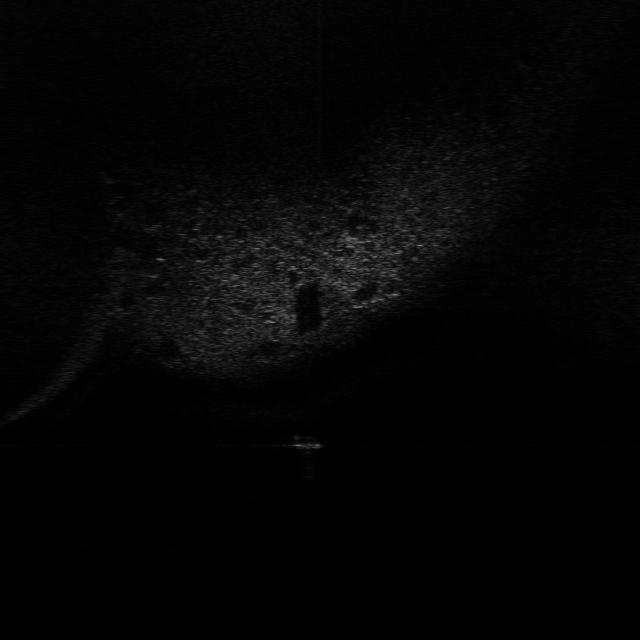cube: (286, 433, 326, 455)
